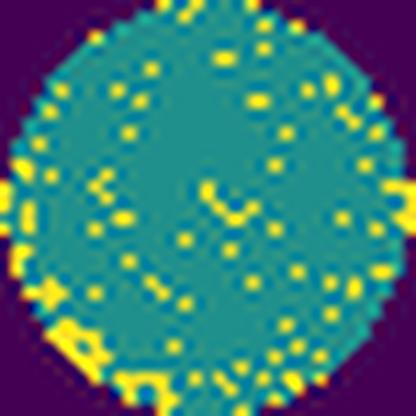Edge-Loc: (40, 308, 116, 386), (116, 365, 184, 415), (376, 166, 415, 236)
